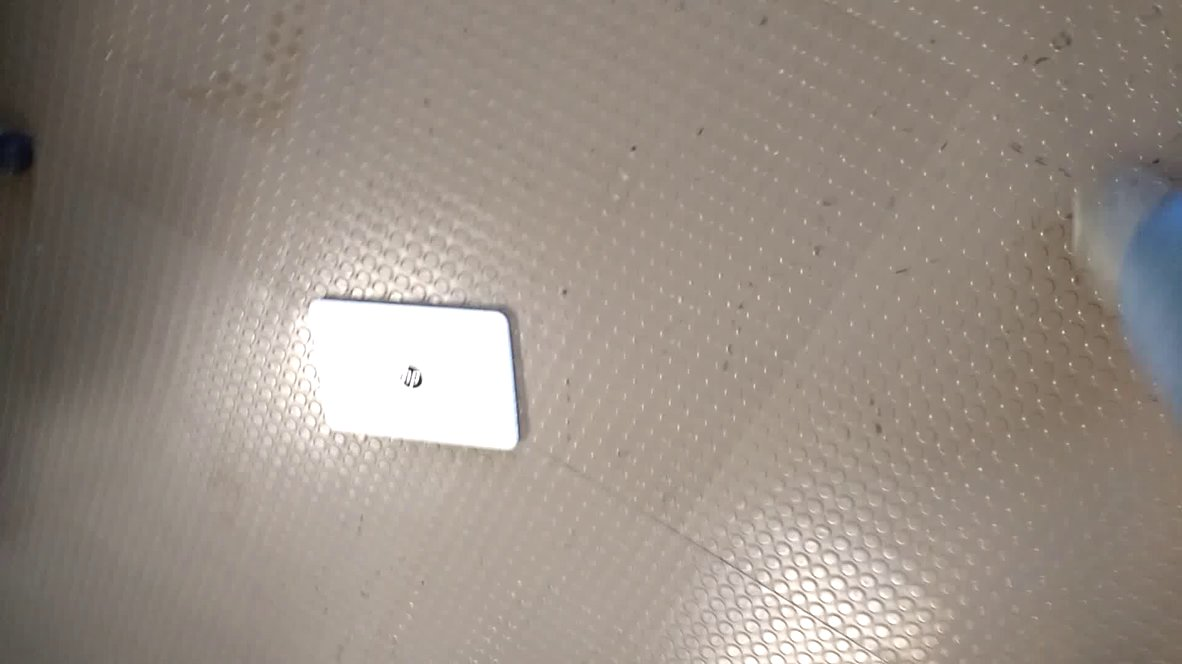laptop: (301, 281, 551, 460)
